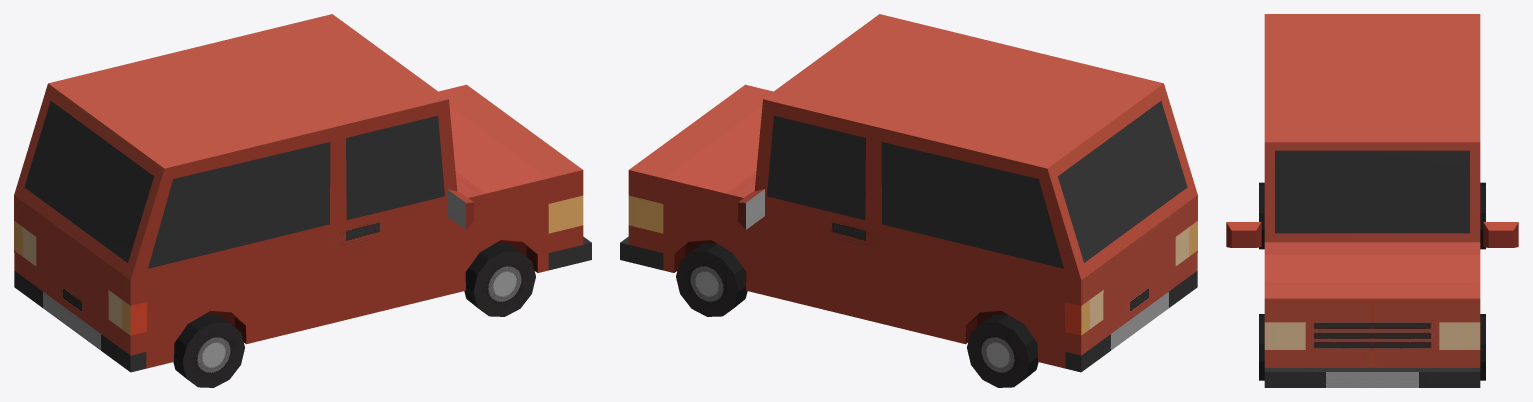
Rendered from Car.glb.
The picture shows the model from 3 angles, left to right: view 1: azimuth 30°, elevation 25°; view 2: azimuth 150°, elevation 25°; view 3: azimuth 270°, elevation 25°; orthographic projection. The views are drawn at different scales.
Parts seen in each view (by area): view 1: car_seperate_red, car_rr_wheel_mesh, car_fr_wheel_mesh; view 2: car_seperate_red, car_rl_wheel_mesh, car_fl_wheel_mesh; view 3: car_seperate_red, car_fl_wheel_mesh, car_fr_wheel_mesh, car_rl_wheel_mesh, car_rr_wheel_mesh.
Boxes of the visible parts, x1=… form: car_seperate_red: x1=14, y1=14, x2=591, y2=372; car_rr_wheel_mesh: x1=173, y1=314, x2=244, y2=387; car_fr_wheel_mesh: x1=464, y1=243, x2=535, y2=316; car_seperate_red: x1=620, y1=14, x2=1197, y2=372; car_rl_wheel_mesh: x1=967, y1=314, x2=1038, y2=387; car_fl_wheel_mesh: x1=676, y1=243, x2=747, y2=316; car_seperate_red: x1=1226, y1=14, x2=1518, y2=387; car_fl_wheel_mesh: x1=1480, y1=314, x2=1485, y2=380; car_fr_wheel_mesh: x1=1259, y1=314, x2=1264, y2=380; car_rl_wheel_mesh: x1=1480, y1=182, x2=1485, y2=249; car_rr_wheel_mesh: x1=1259, y1=182, x2=1264, y2=249.
Bounding box in the file's own units: 5.32 × 2.52 × 3.16.
1 material, 1 textured.
